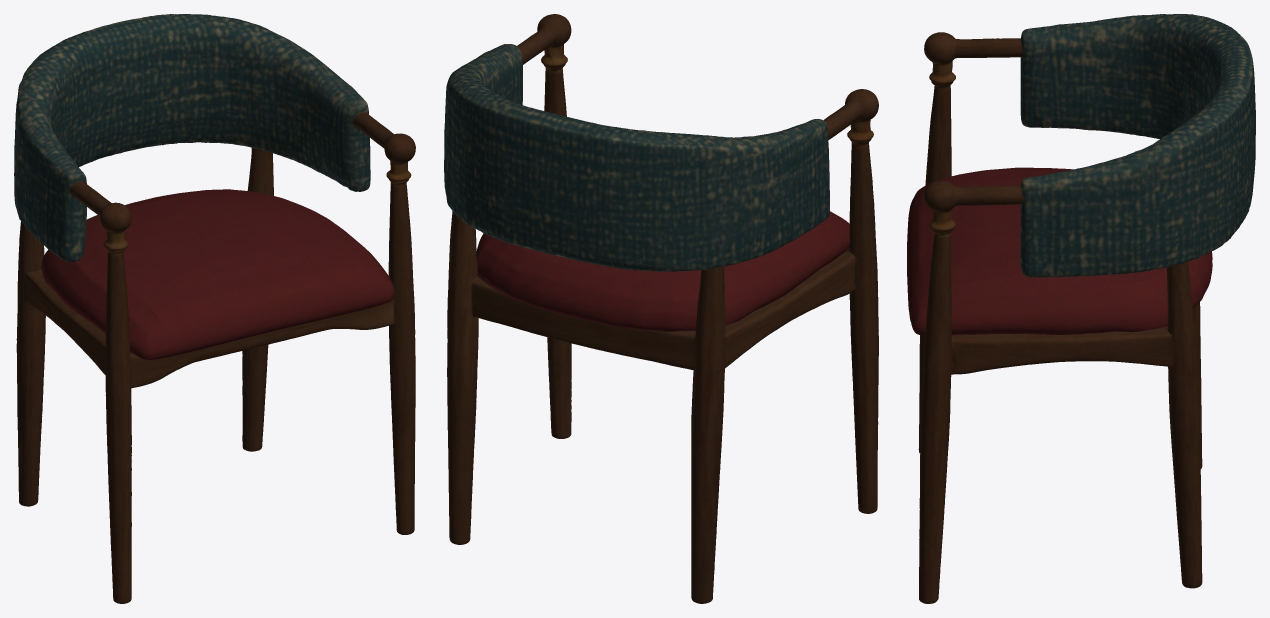
Rendered from stylish_barrel_back_armchair_ouqvsb.glb.
3 renders of one model, left to right at view 1: azimuth 30°, elevation 25°; view 2: azimuth 150°, elevation 25°; view 3: azimuth 270°, elevation 25°, orthographic. The views are drawn at different scales.
Parts seen in each view (by area): view 1: world; view 2: world; view 3: world.
Boxes of the visible parts, x1,y1,x2,y2 form: world: (14, 14, 415, 603); world: (444, 14, 878, 603); world: (907, 14, 1255, 603).
Bounding box in the file's own units: 0.7471 × 0.9987 × 0.6785.
Materials: 1 (1 with a texture image).
